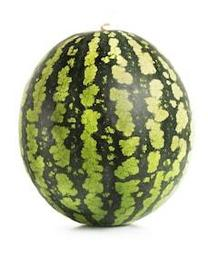watermelon: (18, 30, 192, 227)
